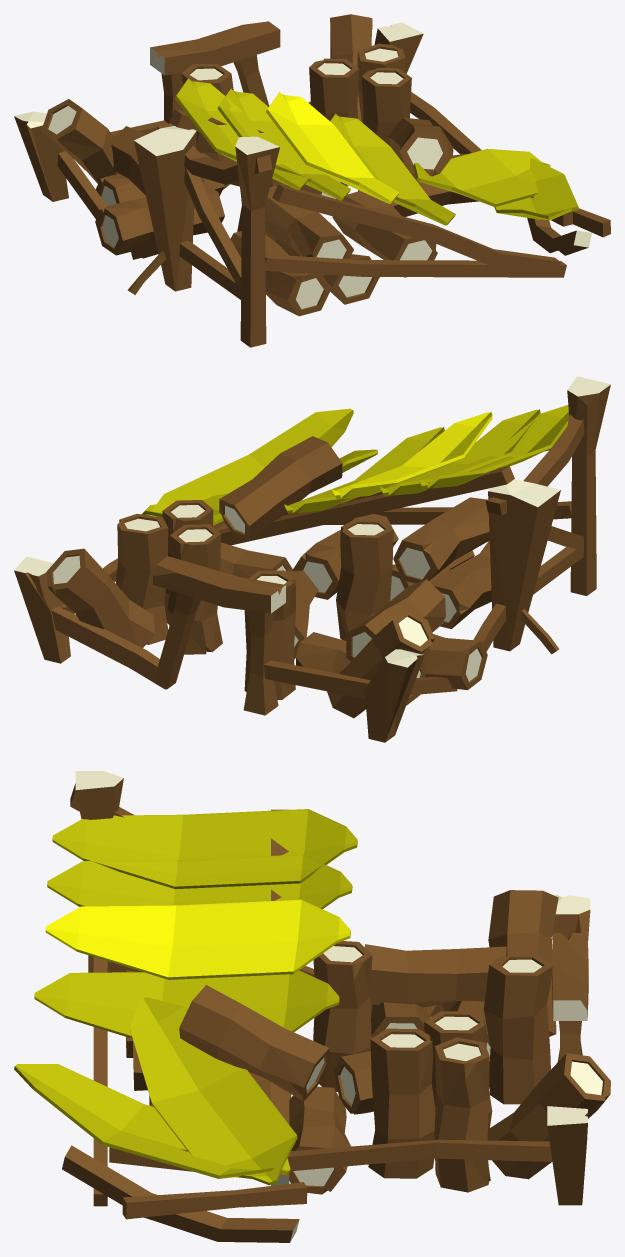
The model's file is RESERVE BOIS 5.fbx.
The picture shows the model from 3 angles, top to bottom: view 1: azimuth 30°, elevation 25°; view 2: azimuth 150°, elevation 25°; view 3: azimuth 270°, elevation 25°; orthographic projection. The views are drawn at different scales.
Visible parts, largest first — view 1: Cube.019; view 2: Cube.019; view 3: Cube.019.
Part boxes in pixels (x1,y1,x2,y2): Cube.019: (14, 14, 610, 347); Cube.019: (14, 376, 610, 742); Cube.019: (14, 771, 610, 1242).
Bounding box in the file's own units: 600 × 300 × 621.
